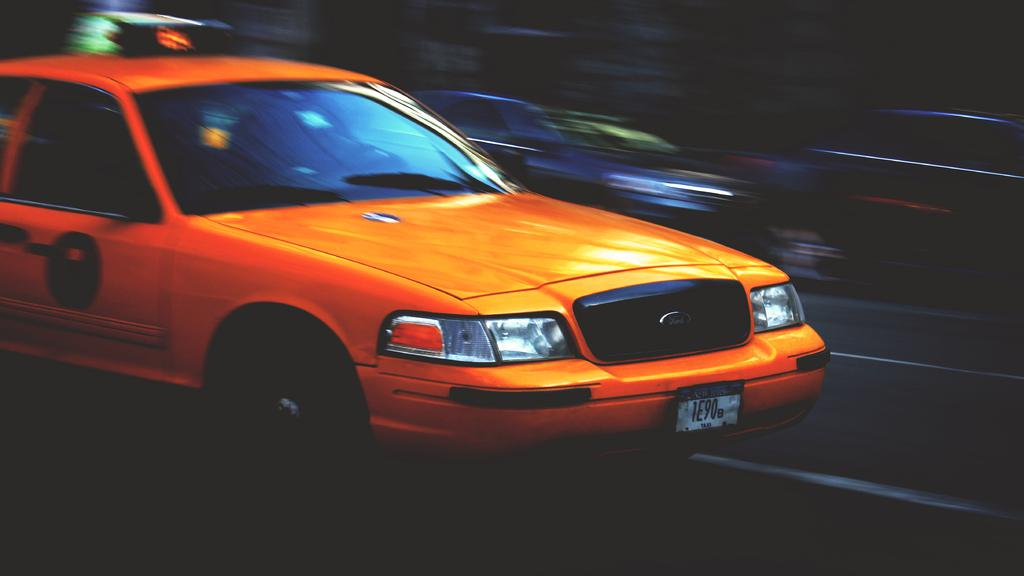taxi: (1, 56, 832, 488)
